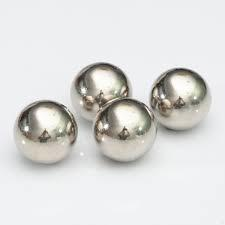steelball: (15, 97, 81, 168), (148, 66, 215, 135), (64, 60, 136, 124), (92, 101, 158, 163)
